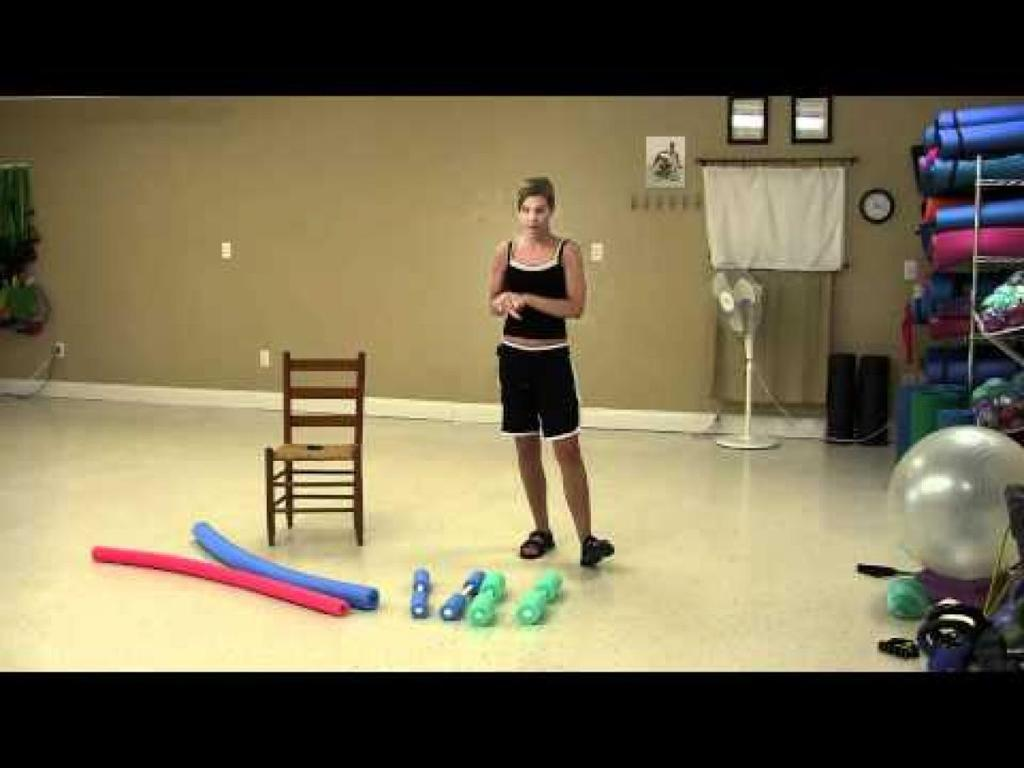face: (520, 197, 549, 238)
